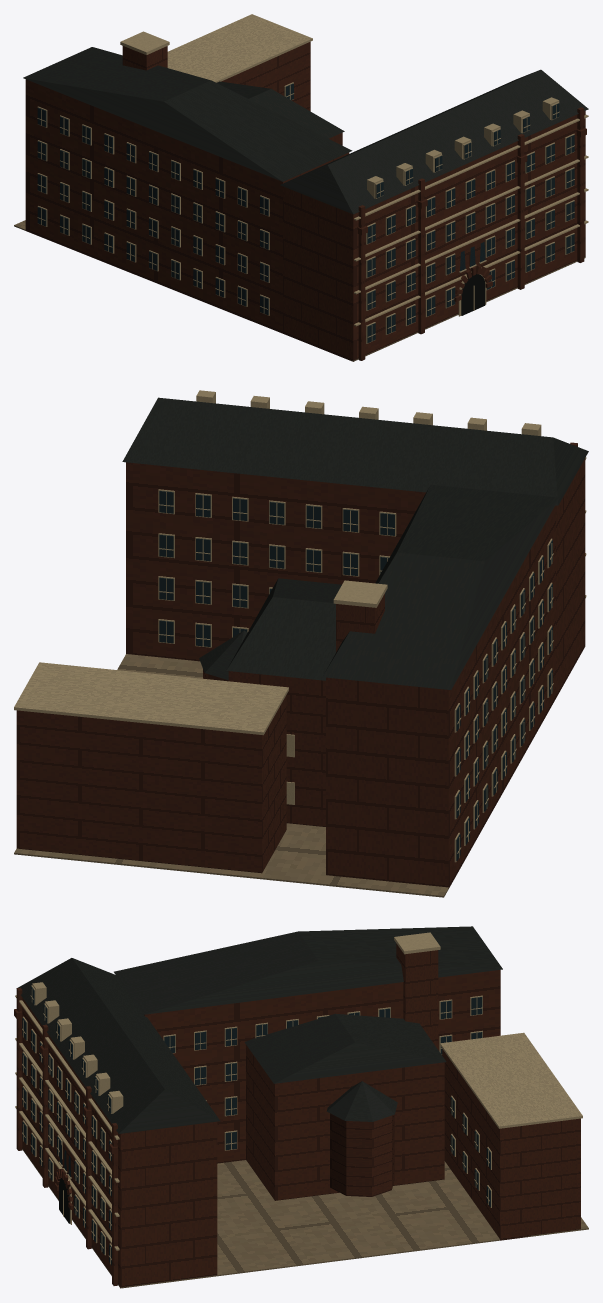
3 views of the same model, one above another, from view 1: azimuth 30°, elevation 25°; view 2: azimuth 150°, elevation 25°; view 3: azimuth 270°, elevation 25° (orthographic). The views are drawn at different scales.
Visible parts, largest first — view 1: sint-lucia-1, sint-lucia-2, sint-lucia-3, sint-lucia-4, sint-lucia-5; view 2: sint-lucia-1, sint-lucia-2, sint-lucia-3, sint-lucia-4, sint-lucia-0; view 3: sint-lucia-1, sint-lucia-2, sint-lucia-0, sint-lucia-3, sint-lucia-4.
Part boxes in pixels (x1=…): sint-lucia-1: x1=25, y1=41, x2=586, y2=361; sint-lucia-2: x1=23, y1=47, x2=588, y2=214; sint-lucia-3: x1=37, y1=14, x2=588, y2=343; sint-lucia-4: x1=37, y1=83, x2=574, y2=343; sint-lucia-5: x1=461, y1=274, x2=485, y2=315; sint-lucia-1: x1=16, y1=442, x2=585, y2=888; sint-lucia-2: x1=122, y1=397, x2=588, y2=689; sint-lucia-3: x1=14, y1=390, x2=586, y2=862; sint-lucia-4: x1=159, y1=491, x2=552, y2=860; sint-lucia-0: x1=14, y1=645, x2=585, y2=897; sint-lucia-1: x1=14, y1=943, x2=580, y2=1288; sint-lucia-2: x1=16, y1=926, x2=502, y2=1133; sint-lucia-0: x1=22, y1=1149, x2=588, y2=1288; sint-lucia-3: x1=15, y1=932, x2=582, y2=1264; sint-lucia-4: x1=22, y1=986, x2=490, y2=1265.
Size of the model in its own units: 57.2 by 25.4 by 68.22.
Materials: 6 (6 with a texture image).
